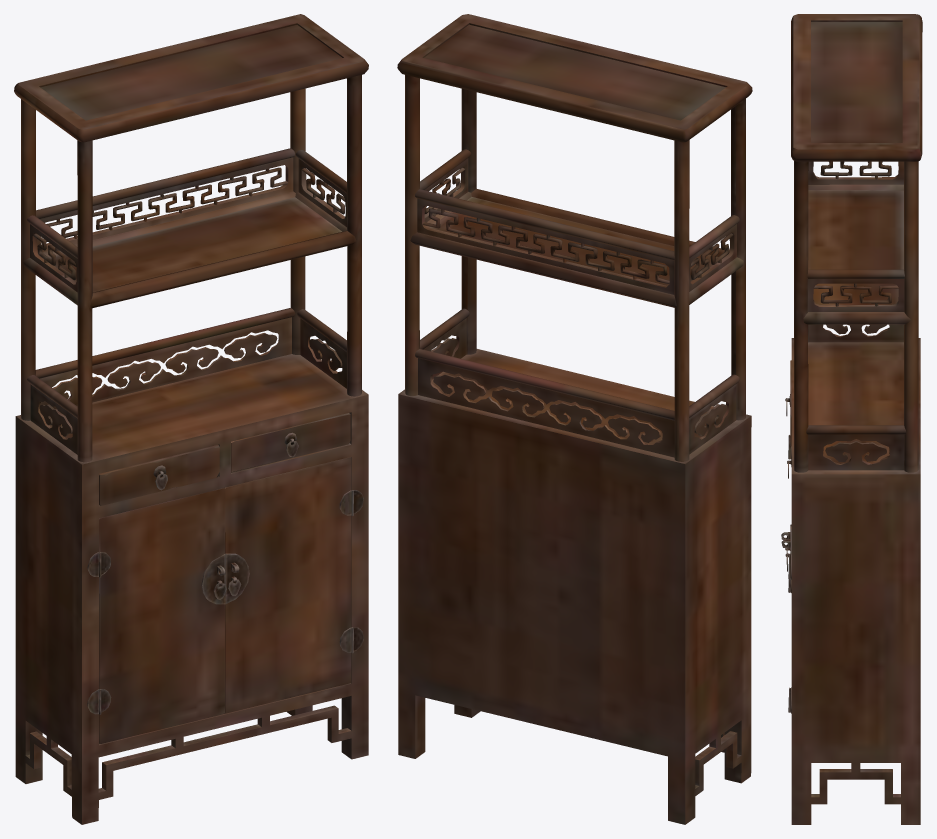
File: wardrobe-chinese.lite.d72f1409.glb
3 renders of one model, left to right at view 1: azimuth 30°, elevation 25°; view 2: azimuth 150°, elevation 25°; view 3: azimuth 270°, elevation 25°, orthographic. The views are drawn at different scales.
Parts seen in each view (by area): view 1: model; view 2: model; view 3: model.
Boxes of the visible parts, x1,y1,x2,y2 form: model: [14, 14, 368, 824]; model: [397, 14, 752, 824]; model: [781, 14, 922, 824].
Bounding box in the file's own units: 1.26 × 2.87 × 0.5438.
1 material, 1 textured.
